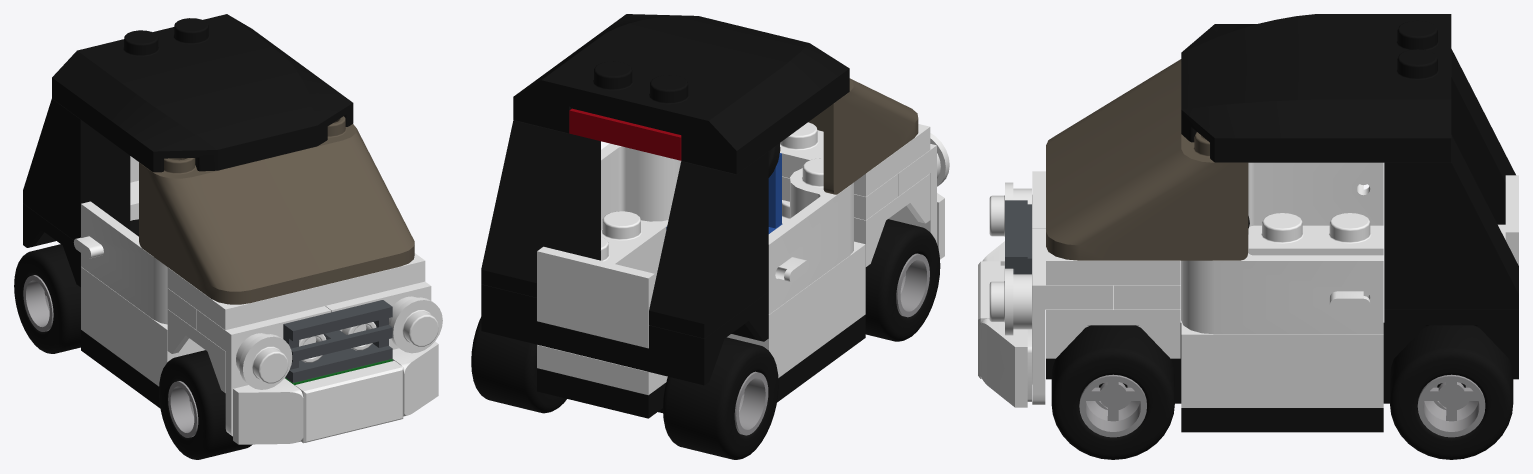
Rendered from 3177-1_ Small Car.fbx.
The picture shows the model from 3 angles, left to right: view 1: azimuth 30°, elevation 25°; view 2: azimuth 150°, elevation 25°; view 3: azimuth 270°, elevation 25°; orthographic projection. The views are drawn at different scales.
Visible parts, largest first — view 1: part.026, part.037, part.024, part.017, part.023, part.016, part.022, part.003, part.034, part.035, part.019, part.013 (+11 smaller); view 2: part.037, part.024, part.025, part.006, part.036, part.035, part.023, part.026, part.003, part.034, part, part.038 (+13 smaller); view 3: part.037, part.026, part.025, part.038, part.004, part.032, part.033, part.023, part, part.003, part.024, part.014 (+13 smaller).
Boxes of the visible parts, x1,y1,x2,y2 form: part.026: [139, 116, 414, 304]; part.037: [52, 14, 353, 172]; part.024: [23, 98, 130, 239]; part.017: [295, 361, 403, 443]; part.023: [73, 201, 167, 324]; part.016: [283, 300, 392, 382]; part.022: [167, 253, 425, 330]; part.003: [81, 267, 204, 386]; part.034: [159, 350, 252, 459]; part.035: [14, 244, 80, 353]; part.019: [233, 378, 303, 444]; part.013: [196, 306, 330, 436]; part.037: [513, 14, 849, 174]; part.024: [649, 151, 768, 338]; part.025: [481, 120, 600, 297]; part.006: [481, 251, 768, 385]; part.036: [537, 246, 654, 348]; part.035: [663, 337, 778, 459]; part.023: [768, 158, 853, 314]; part.026: [808, 78, 918, 194]; part.003: [727, 241, 865, 377]; part.034: [865, 219, 940, 341]; part: [537, 314, 865, 418]; part.038: [601, 143, 681, 230]; part.037: [1181, 14, 1451, 162]; part.026: [1046, 59, 1248, 260]; part.025: [1384, 135, 1518, 309]; part.038: [1181, 247, 1383, 334]; part.004: [1181, 321, 1383, 407]; part.032: [1051, 325, 1174, 459]; part.033: [1390, 325, 1513, 459]; part.023: [1248, 162, 1383, 234]; part: [1046, 323, 1518, 432]; part.003: [1248, 213, 1383, 296]; part.024: [1451, 49, 1515, 223]; part.014: [1032, 228, 1112, 404].
Bounding box in the file's own units: 3640 × 4630 × 6394.
